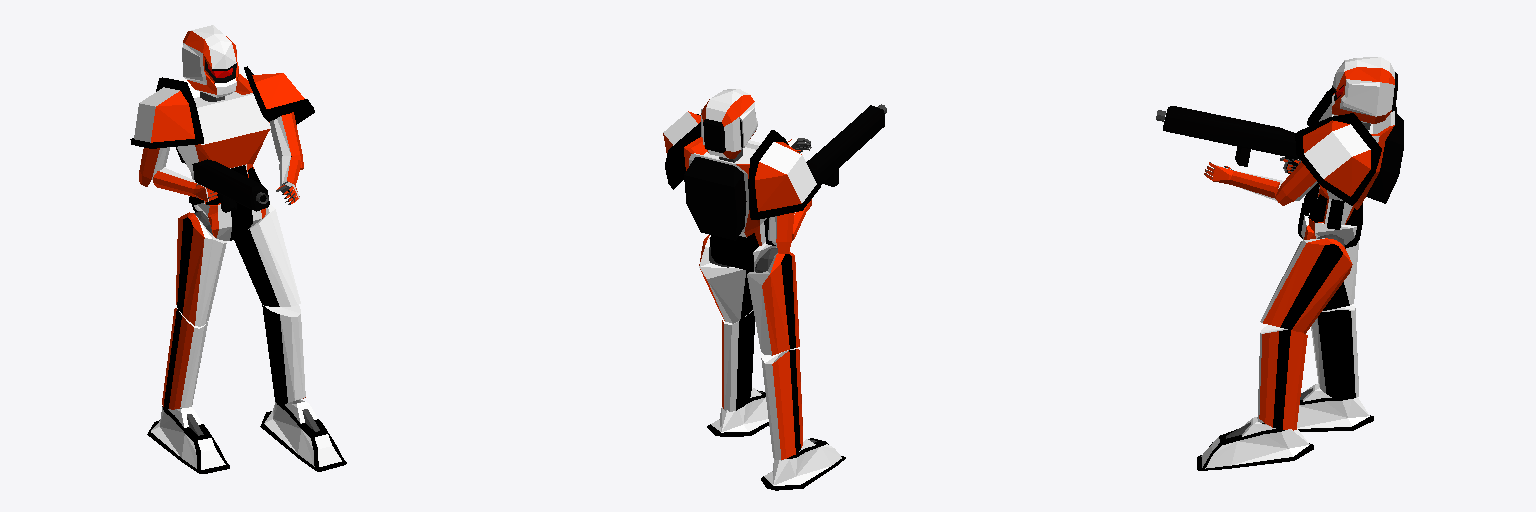
Rendered from robots_000005.obj.
The picture shows the model from 3 angles: view 1: azimuth 30°, elevation 25°; view 2: azimuth 150°, elevation 25°; view 3: azimuth 270°, elevation 25°; orthographic projection.
Visible parts, largest first — view 1: Chest_plate_Cube.004, R_Thigh_Cube.005, R_Thigh.002_Cube.027, Cube.002_Cube.059, R_Foot.002_Cube.035, R_Shin.002_Cube.029, Head_base_Cube.022, R_Foot_Cube, R_Shin_Cube.007, Cube_Cube.001, Cube_Cube.021, Pelvis_Cube.006 (+3 smaller); view 2: Chest_plate_Cube.004, Cube.002_Cube.059, R_Thigh_Cube.005, R_Shin_Cube.007, Head_base_Cube.022, R_Shin.002_Cube.029, Cube_Cube.001, R_Foot_Cube, R_Thigh.002_Cube.027, R_Foot.002_Cube.035, Cube_Cube.021, Pelvis_Cube.006 (+1 smaller); view 3: Cube_Cube.021, R_Thigh.002_Cube.027, R_Shin.002_Cube.029, Cube_Cube.001, Chest_plate_Cube.004, R_Foot.002_Cube.035, R_Shin_Cube.007, Head_base_Cube.022, R_Foot_Cube, Pelvis_Cube.006, L_Arm_Cube.014, L_Forearm_Cube.020 (+1 smaller).
Boxes of the visible parts, x1,y1,x2,y2 form: Chest_plate_Cube.004: [176, 74, 270, 204]; R_Thigh_Cube.005: [176, 212, 226, 326]; R_Thigh.002_Cube.027: [234, 204, 300, 306]; Cube.002_Cube.059: [130, 77, 203, 148]; R_Foot.002_Cube.035: [260, 399, 346, 471]; R_Shin.002_Cube.029: [262, 305, 305, 405]; Head_base_Cube.022: [182, 25, 238, 97]; R_Foot_Cube: [147, 406, 229, 473]; R_Shin_Cube.007: [162, 308, 208, 409]; Cube_Cube.001: [192, 159, 269, 212]; Cube_Cube.021: [244, 66, 314, 124]; Pelvis_Cube.006: [192, 202, 265, 240]; Chest_plate_Cube.004: [684, 137, 775, 245]; Cube.002_Cube.059: [748, 130, 820, 219]; R_Thigh_Cube.005: [747, 251, 799, 355]; R_Shin_Cube.007: [761, 349, 802, 460]; Head_base_Cube.022: [701, 89, 757, 158]; R_Shin.002_Cube.029: [722, 310, 754, 411]; Cube_Cube.001: [806, 104, 886, 186]; R_Foot_Cube: [761, 438, 845, 490]; R_Thigh.002_Cube.027: [699, 235, 752, 323]; R_Foot.002_Cube.035: [707, 387, 768, 436]; Cube_Cube.021: [663, 111, 700, 189]; Pelvis_Cube.006: [709, 233, 776, 271]; Cube_Cube.021: [1295, 113, 1381, 205]; R_Thigh.002_Cube.027: [1260, 238, 1352, 333]; R_Shin.002_Cube.029: [1258, 325, 1307, 430]; Cube_Cube.001: [1156, 106, 1299, 173]; Chest_plate_Cube.004: [1304, 103, 1403, 229]; R_Foot.002_Cube.035: [1197, 417, 1313, 470]; R_Shin_Cube.007: [1311, 304, 1358, 399]; Head_base_Cube.022: [1331, 57, 1397, 123]; R_Foot_Cube: [1297, 383, 1373, 431]; Pelvis_Cube.006: [1298, 203, 1362, 248]; L_Arm_Cube.014: [1275, 162, 1317, 205]; L_Forearm_Cube.020: [1230, 171, 1283, 201].
Size of the model in its own units: 1.32 by 3.06 by 1.78.